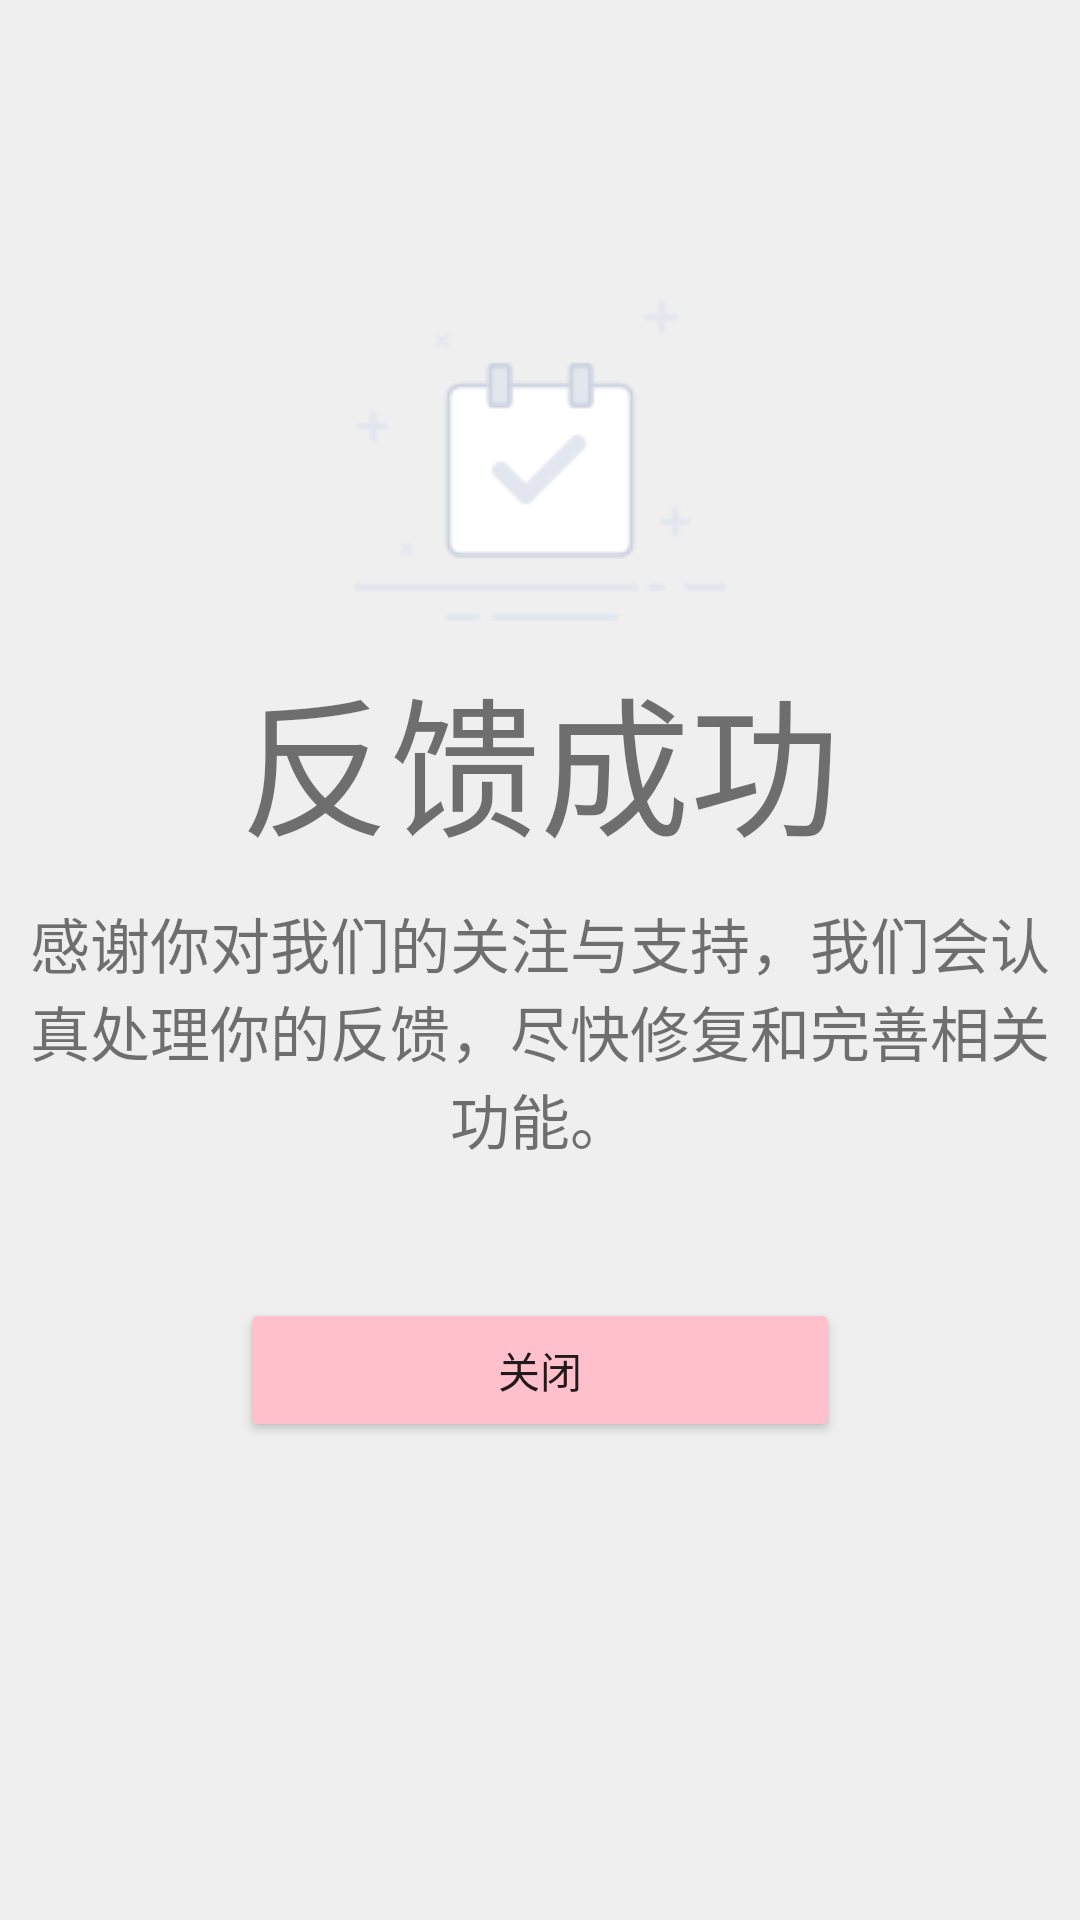

Screen size 1080px×1920px. Icon name, then its center in pixels as (x,y):
succes: (540,460)
